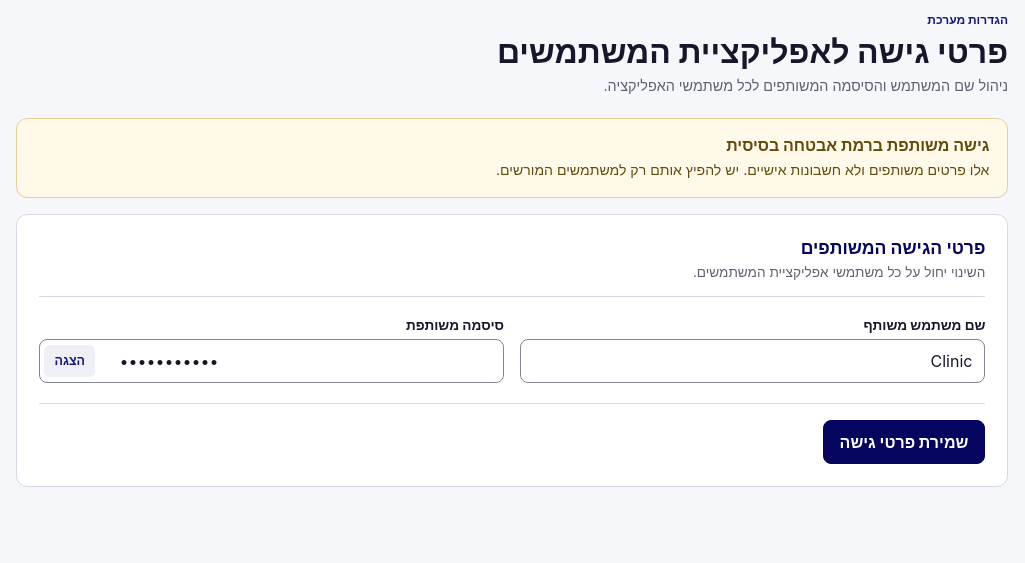
Test case: UserAccessSettings › saves the edited credential with the importing administrator email
Replace the text in the field labelled "שם משתמש משותף" with "  Assuta Users  " at point(753, 361), box [520, 339, 985, 383]
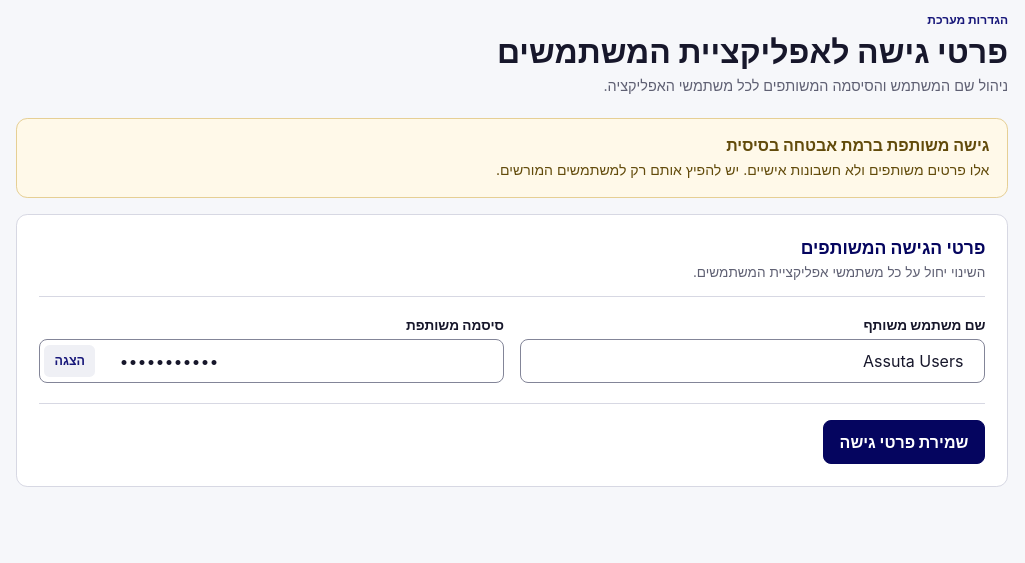
Type "new shared password" into the password field labelled "סיסמה משותפת" at point(271, 361), box [39, 339, 504, 383]
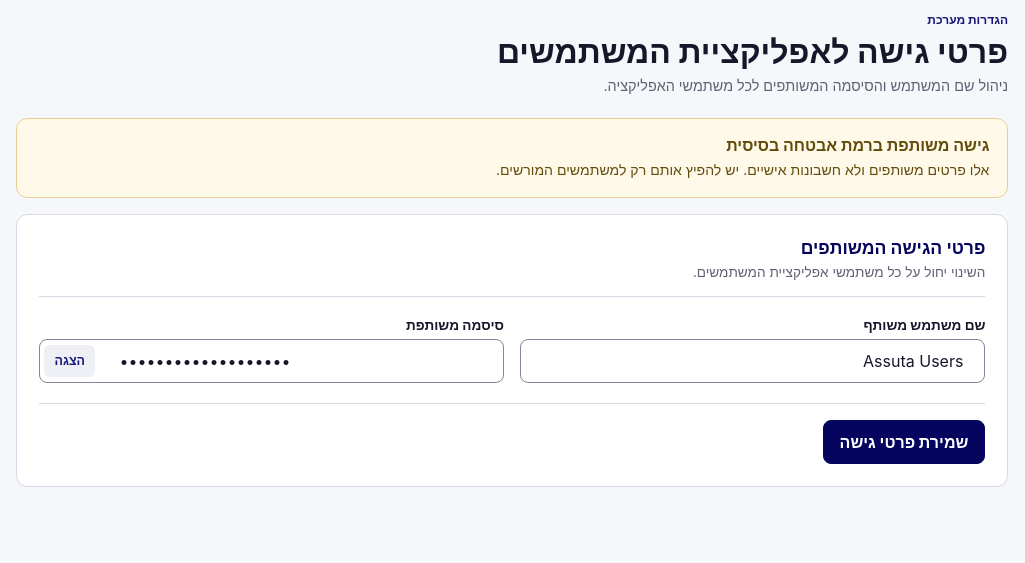
Click the button "שמירת פרטי גישה" at point(904, 442), box [823, 420, 985, 464]
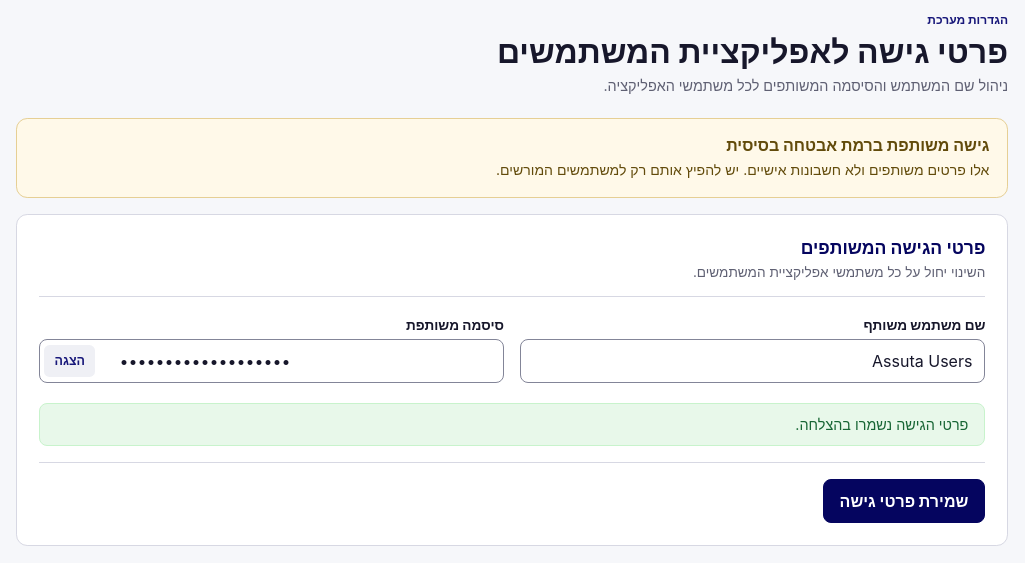
Result: the message reads "פרטי הגישה נשמרו בהצלחה." at [795, 416, 968, 433]
